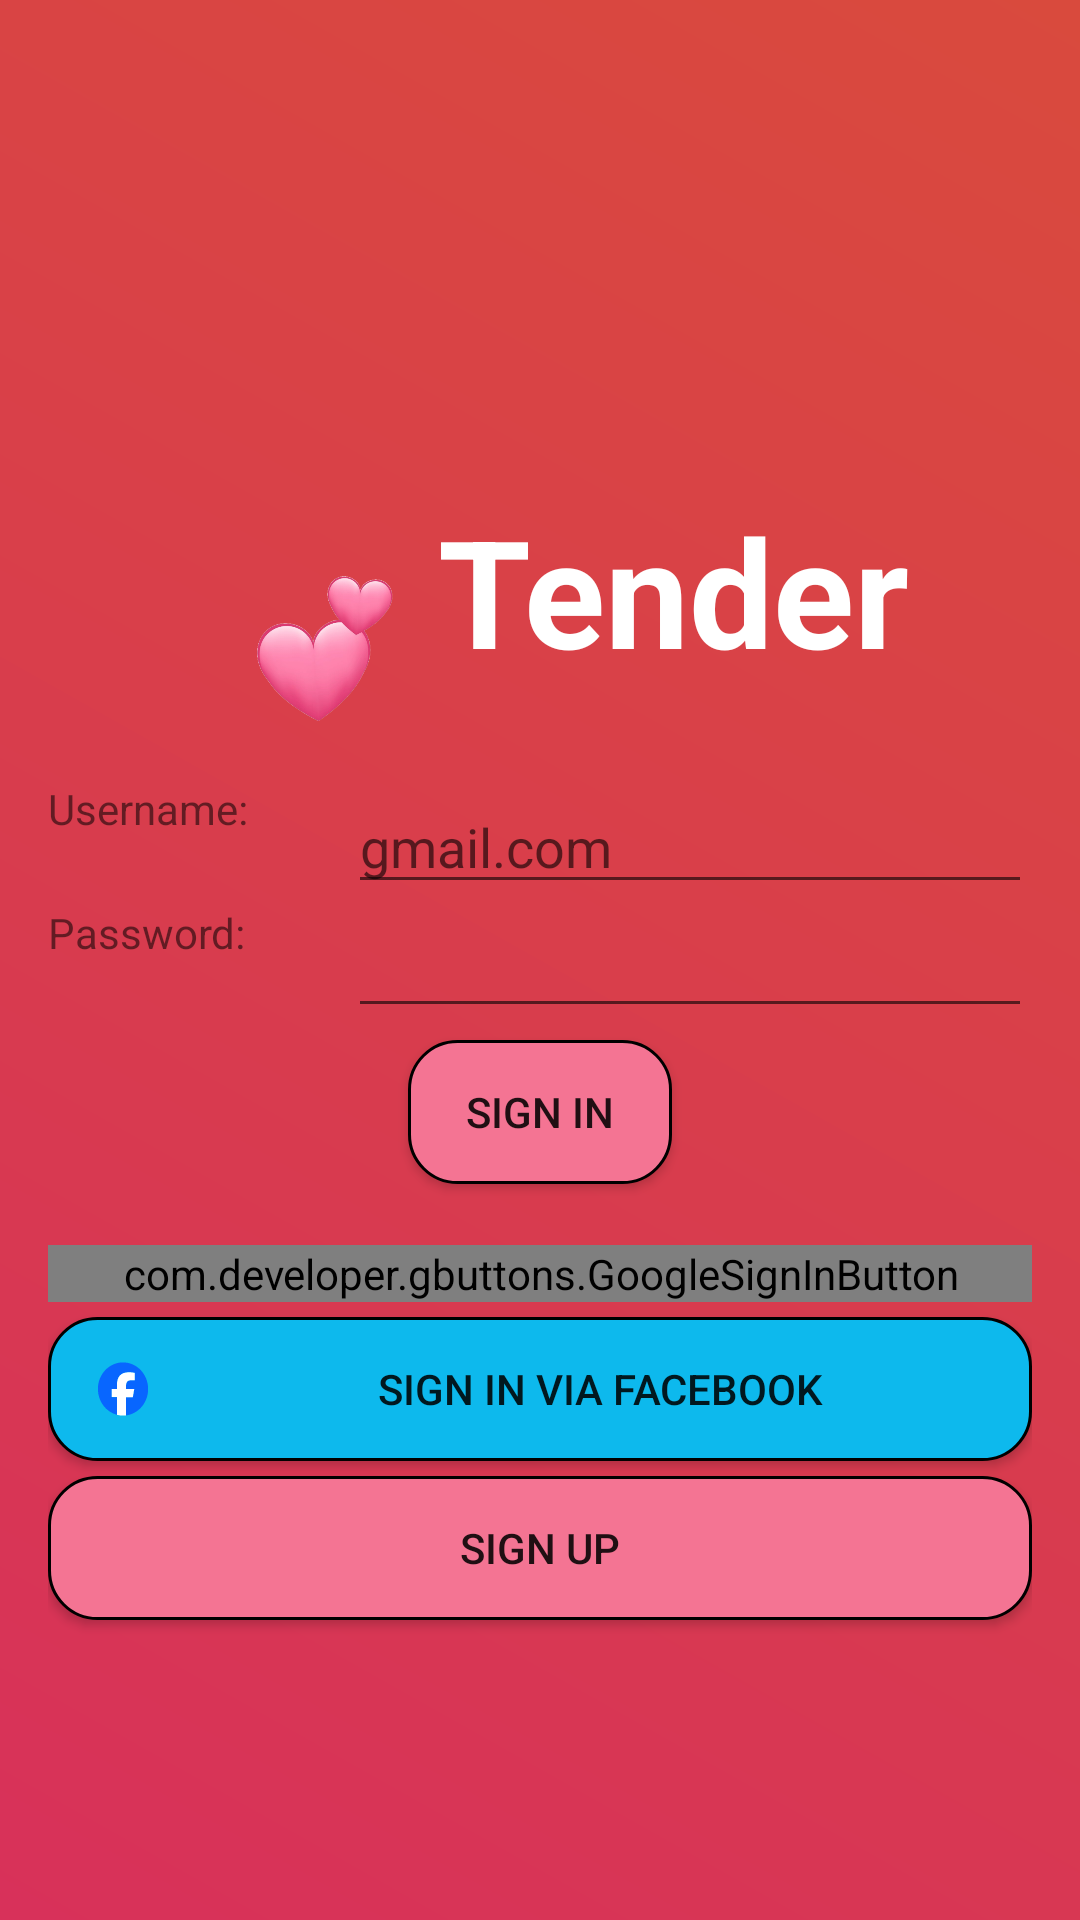

Icons on this 1080px×1920px Android screen, each with the point to tap as point (x, y):
heart: point (324, 648)
